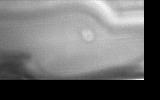cell: (78, 24, 97, 43)
